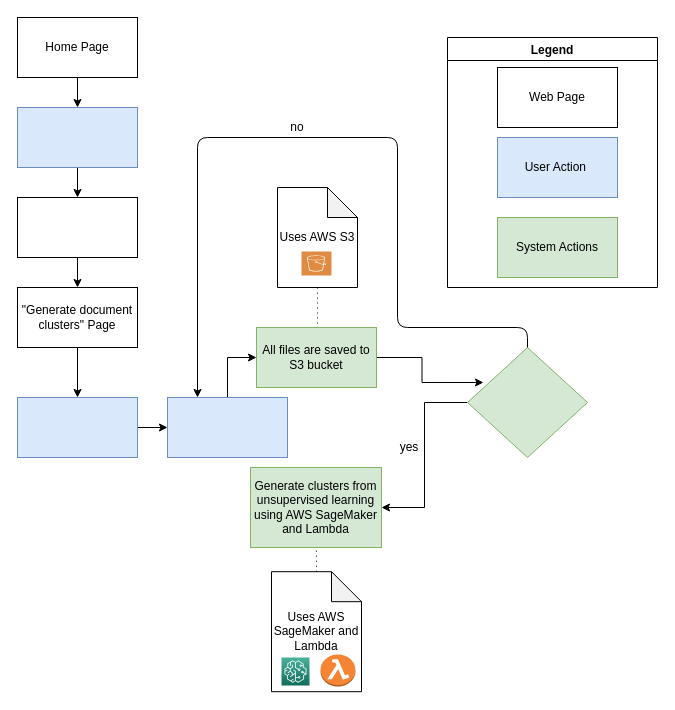
This 675x710 diagram has some shape labels left out. The shapes that lost their labels are listed below. From the top down, each one's centre as x and y in pixels, then its label:
[77,137]: User Logs in
[77,227]: Welcome Page
[527,402]: checks if file is of supported format
[77,427]: User Selects multiple file to upload from browser
[227,427]: User clicks "Generate clusters"
